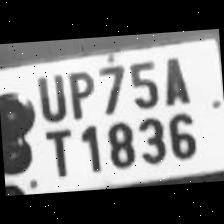1: (72, 118, 104, 175)
3: (132, 110, 168, 166)
5: (122, 55, 160, 109)
6: (162, 106, 199, 162)
7: (92, 59, 127, 115)
8: (100, 116, 136, 170)
A: (155, 50, 195, 107)
P: (62, 64, 97, 122)
T: (38, 121, 76, 178)
U: (30, 67, 68, 124)
